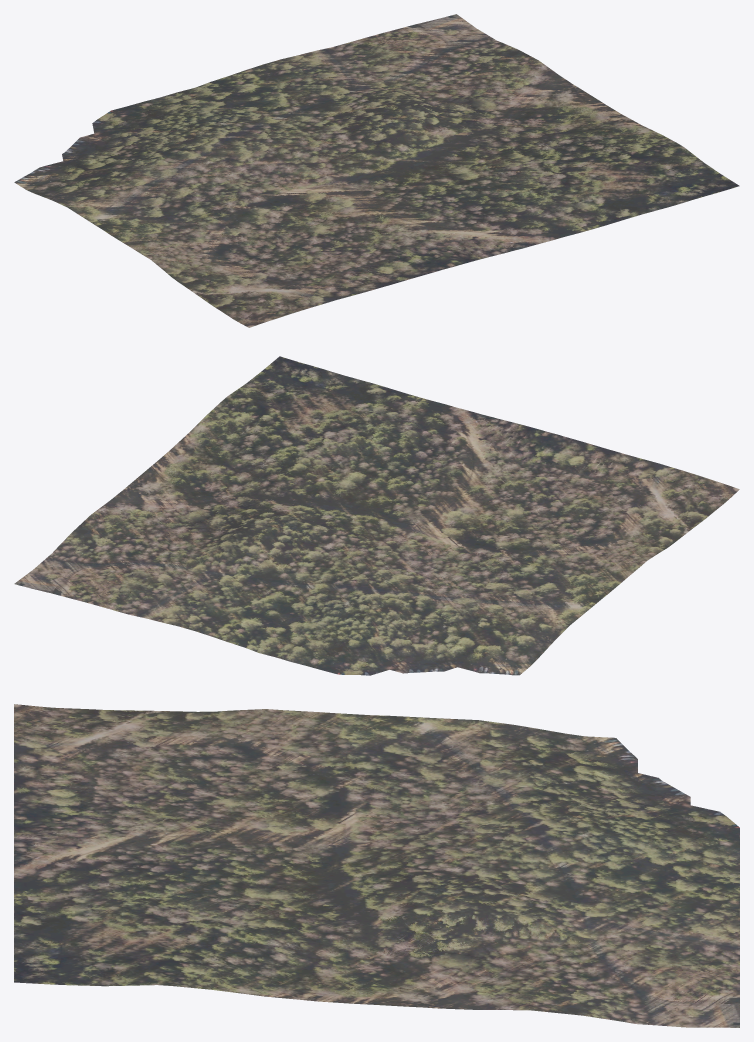
The model's file is CM_Terrain_24488615_6822660.fbx.
The picture shows the model from 3 angles, top to bottom: view 1: azimuth 30°, elevation 25°; view 2: azimuth 150°, elevation 25°; view 3: azimuth 270°, elevation 25°; orthographic projection. The views are drawn at different scales.
Visible parts, largest first — view 1: CM_Terrain_24488615_6822660_LOD0; view 2: CM_Terrain_24488615_6822660_LOD0; view 3: CM_Terrain_24488615_6822660_LOD0.
Part boxes in pixels (x1=…): CM_Terrain_24488615_6822660_LOD0: x1=14, y1=14, x2=739, y2=327; CM_Terrain_24488615_6822660_LOD0: x1=14, y1=356, x2=739, y2=675; CM_Terrain_24488615_6822660_LOD0: x1=14, y1=704, x2=739, y2=1027.
Size of what is drawn, in the model's own units: 205 by 19.45 by 205.
